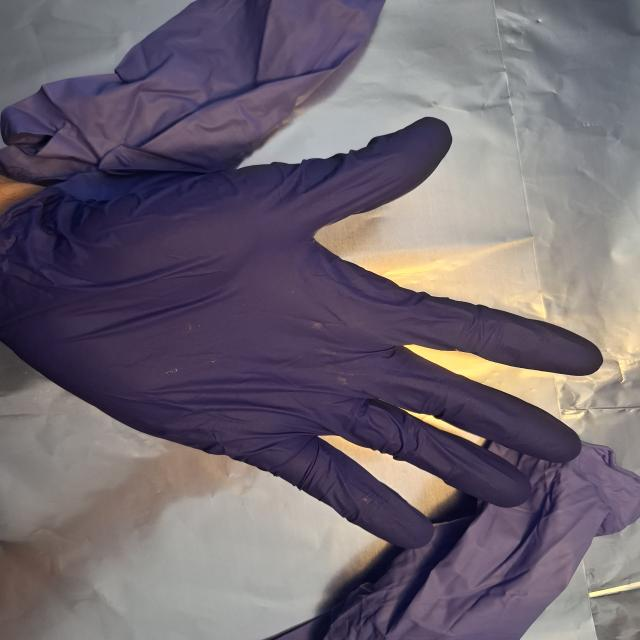glove_on: (3, 114, 609, 554)
